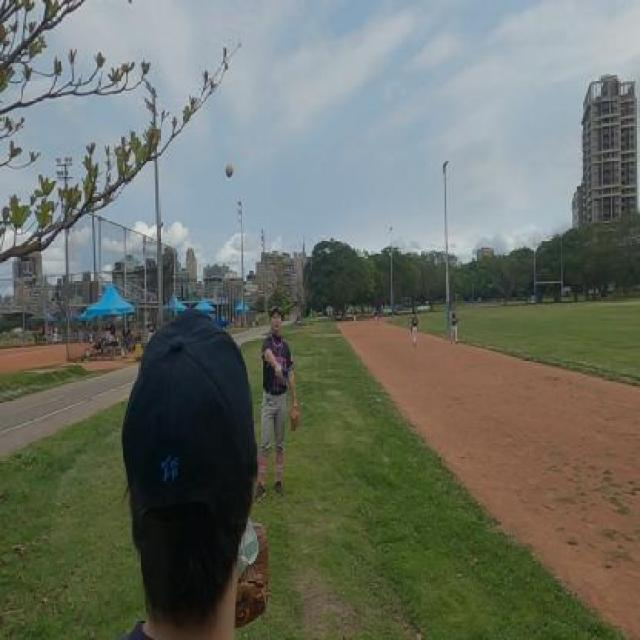baseball: (225, 164, 233, 178)
